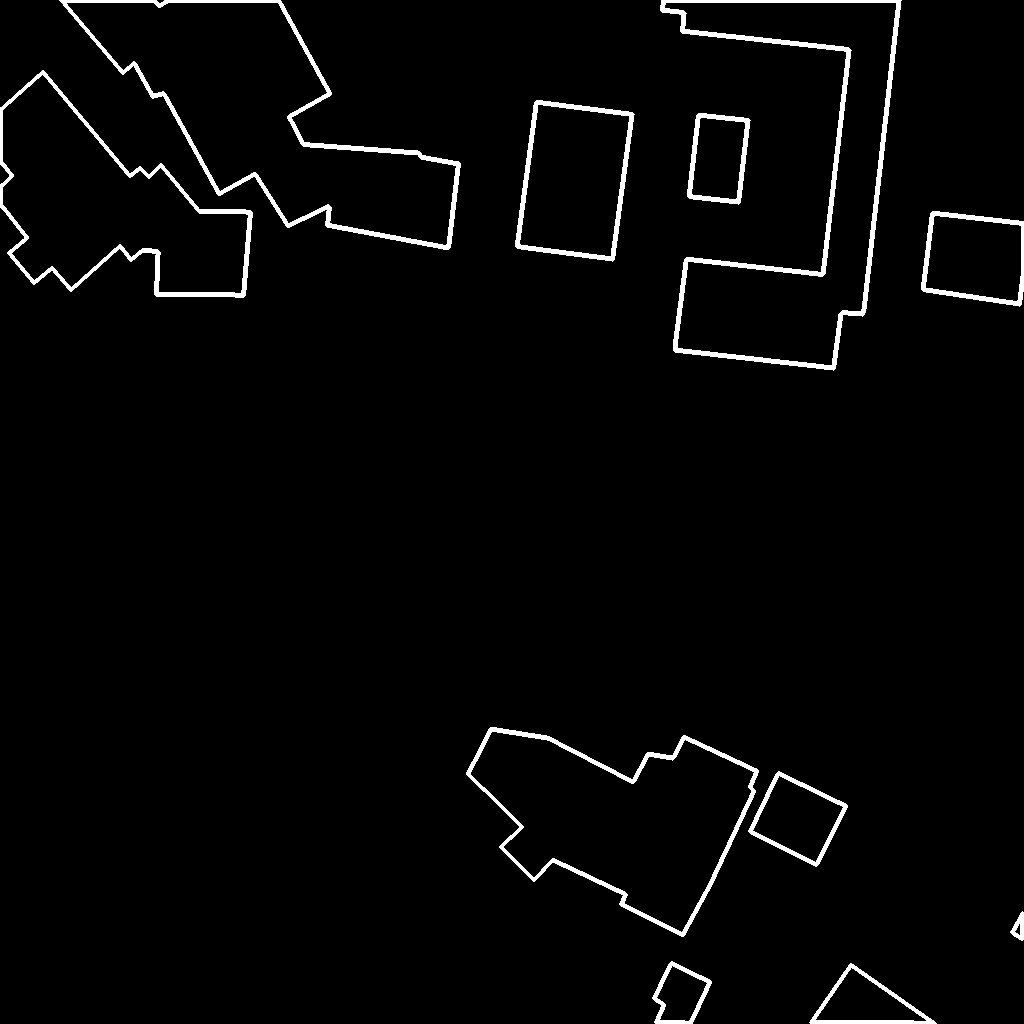building: (61, 0, 460, 249), (662, 0, 900, 369), (468, 729, 758, 936), (0, 72, 252, 296), (517, 102, 633, 260), (923, 213, 1024, 305), (750, 773, 847, 866), (811, 965, 936, 1024), (689, 115, 749, 203), (654, 963, 711, 1024), (1012, 913, 1024, 940)
